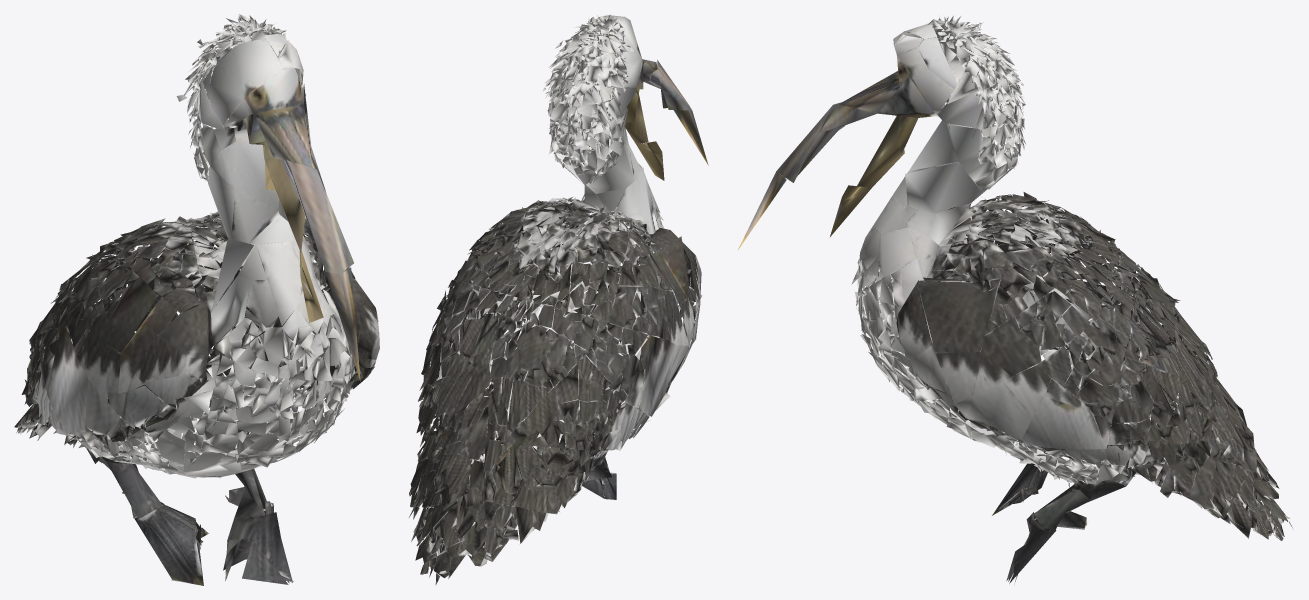
File: pelican-phone.glb
The picture shows the model from 3 angles, left to right: view 1: azimuth 30°, elevation 25°; view 2: azimuth 150°, elevation 25°; view 3: azimuth 270°, elevation 25°; orthographic projection. The views are drawn at different scales.
Parts seen in each view (by area): view 1: Mesh_0; view 2: Mesh_0; view 3: Mesh_0.
Part boxes in pixels (bbox=[...]): Mesh_0: bbox=[14, 14, 379, 585]; Mesh_0: bbox=[409, 14, 708, 585]; Mesh_0: bbox=[738, 15, 1293, 583].
Size of the model in its own units: 0.8408 by 1.85 by 1.74.
Materials: 1 (1 with a texture image).
